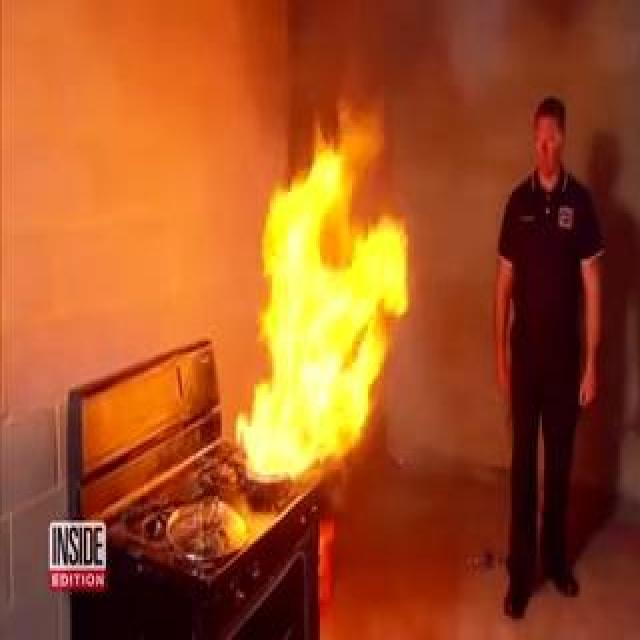Fire: (234, 70, 440, 487)
